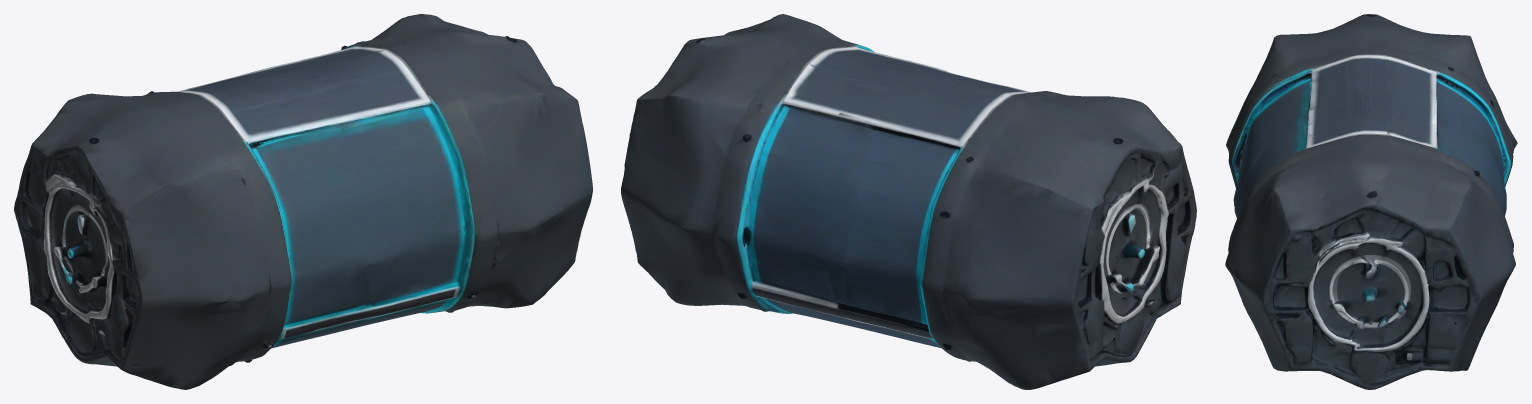
File: apex-reliquia-sarcofago.glb
The picture shows the model from 3 angles, left to right: view 1: azimuth 30°, elevation 25°; view 2: azimuth 150°, elevation 25°; view 3: azimuth 270°, elevation 25°; orthographic projection. The views are drawn at different scales.
Size of the model in its own units: 2 by 1.01 by 1.23.
Materials: 1 (1 with a texture image).
